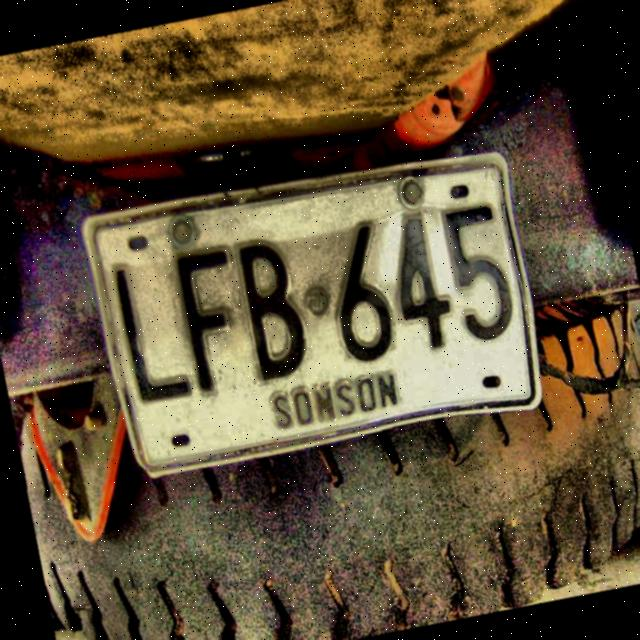plate: (85, 158, 540, 475)
